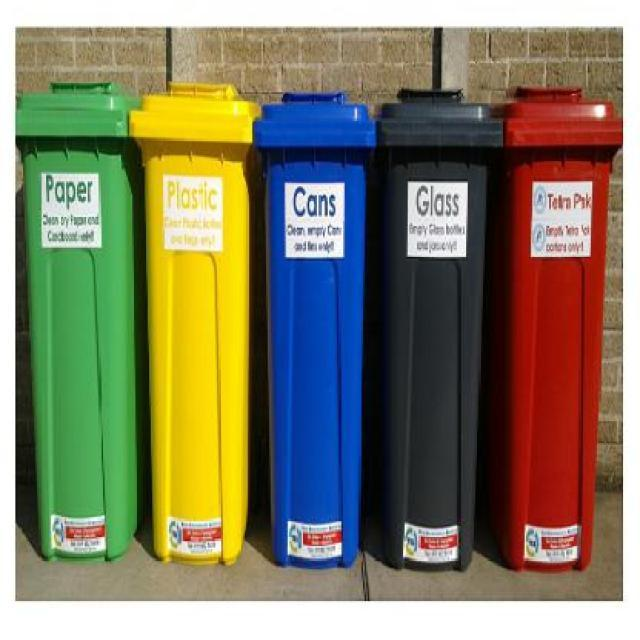garbage container: (489, 83, 625, 577), (16, 66, 145, 574), (134, 66, 262, 577), (370, 86, 504, 568), (253, 84, 381, 577)
